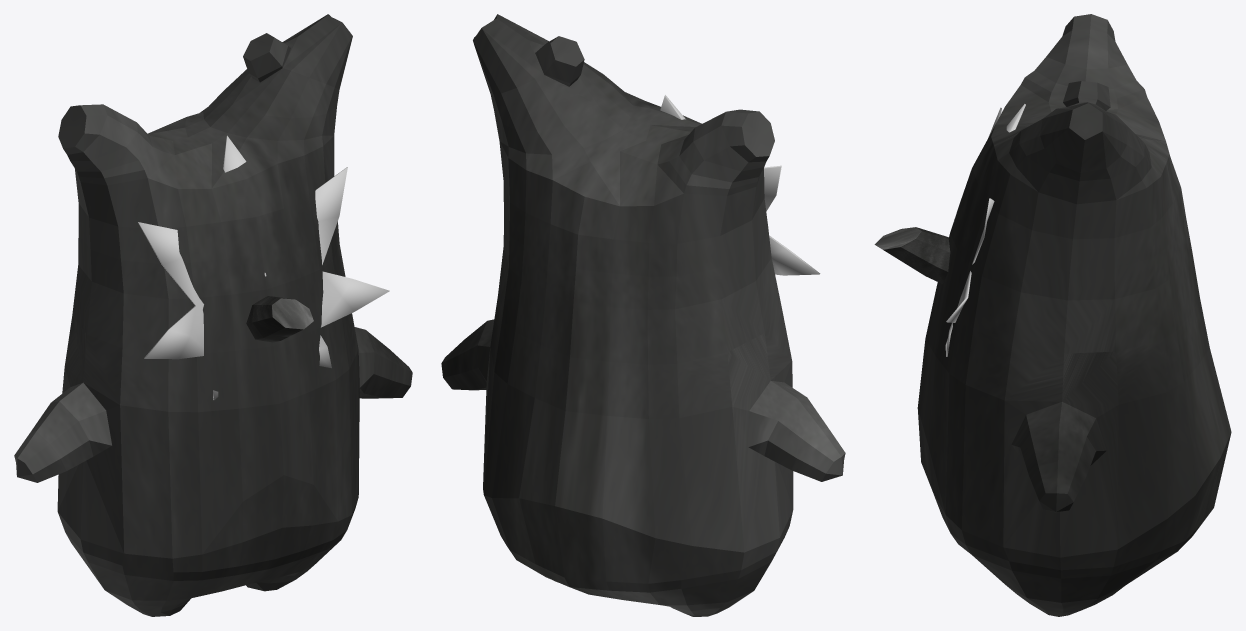
The model's file is frame_0158.obj.
3 renders of one model, left to right at view 1: azimuth 30°, elevation 25°; view 2: azimuth 150°, elevation 25°; view 3: azimuth 270°, elevation 25°, orthographic. The views are drawn at different scales.
Visible parts, largest first — view 1: korok, leaf, nose; view 2: korok, leaf; view 3: korok, nose, leaf.
Part boxes in pixels (left/top/right/bottom): korok: left=14, top=14, right=412, bottom=616; leaf: left=138, top=135, right=389, bottom=399; nose: left=246, top=296, right=313, bottom=342; korok: left=441, top=14, right=845, bottom=616; leaf: left=660, top=95, right=820, bottom=275; korok: left=917, top=14, right=1231, bottom=616; nose: left=874, top=227, right=950, bottom=283; leaf: left=945, top=104, right=1025, bottom=356.
Size of the model in its own units: 1.68 by 2.24 by 1.33.
